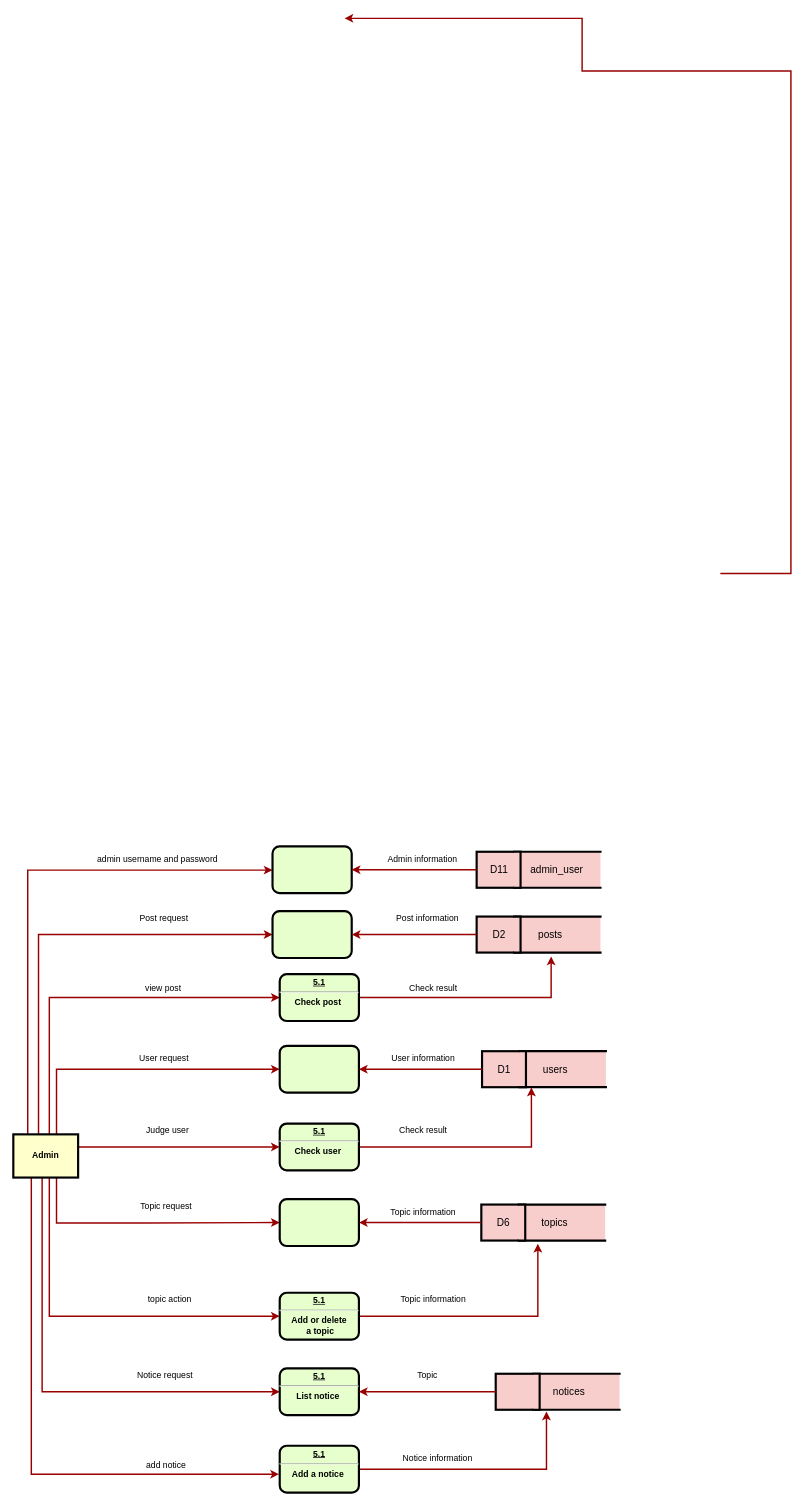
The diagram is 810 pixels wide and 1506 high, and some of its shapes have lost their labels. Each missing label, with the box of its shape:
5.1 List post: (271, 910, 352, 959)
5.1 List topic: (278, 1198, 360, 1247)
5.1 List user: (278, 1044, 360, 1093)
5.1 Sign in: (271, 845, 352, 894)
D5: (494, 1372, 540, 1410)
